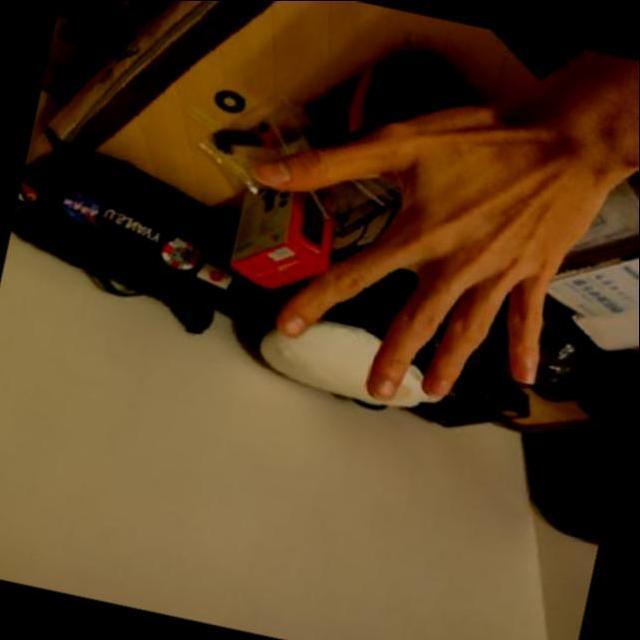hand: (181, 30, 640, 459)
